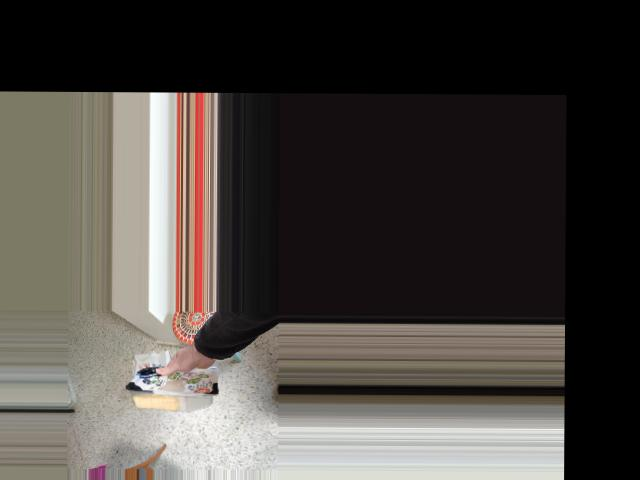cheese: (122, 343, 229, 435)
